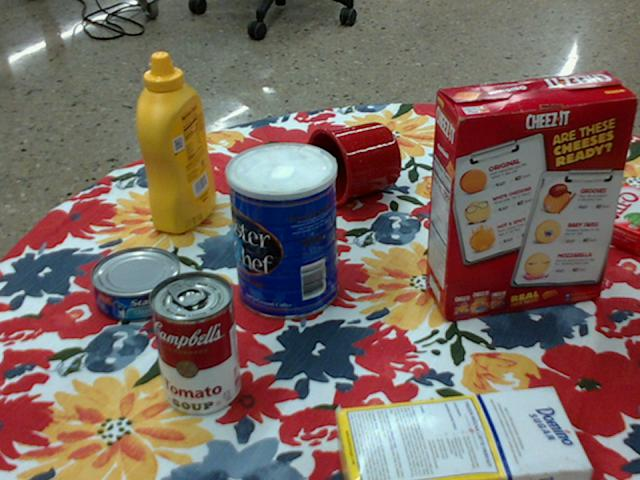cracker_box: (428, 74, 638, 322)
gelatin_box: (578, 183, 639, 254)
large_marker: (452, 146, 551, 173)
master_chef_can: (226, 142, 337, 319)
mug: (304, 121, 401, 209)
mustard_bottle: (138, 53, 215, 234)
sugar_box: (337, 385, 593, 479)
tomato_soup_can: (149, 270, 240, 415)
tuna_fish_can: (91, 245, 182, 320)
